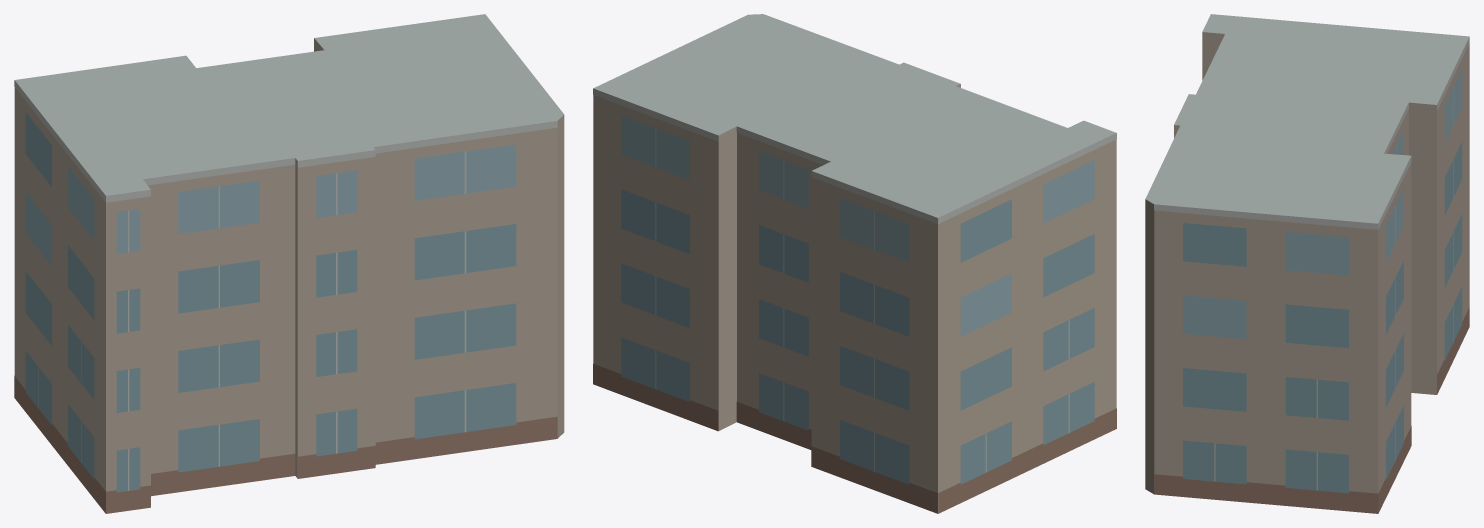
Rendered from survey-upis-32714736.glb.
3 views of the same model, side by side, from view 1: azimuth 30°, elevation 25°; view 2: azimuth 150°, elevation 25°; view 3: azimuth 270°, elevation 25° (orthographic). The views are drawn at different scales.
Parts seen in each view (by area): view 1: survey-upis-32714736.tmp; view 2: survey-upis-32714736.tmp; view 3: survey-upis-32714736.tmp.
Part boxes in pixels (bbox=[...]): survey-upis-32714736.tmp: bbox=[14, 14, 564, 513]; survey-upis-32714736.tmp: bbox=[593, 14, 1116, 513]; survey-upis-32714736.tmp: bbox=[1145, 14, 1469, 513].
Bounding box in the file's own units: 17.84 × 11.5 × 11.66.
